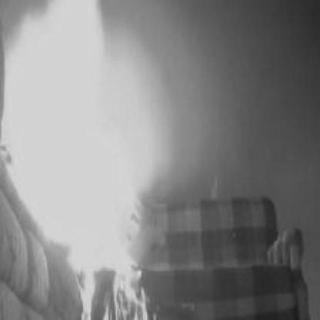Fire: (6, 4, 144, 296)
